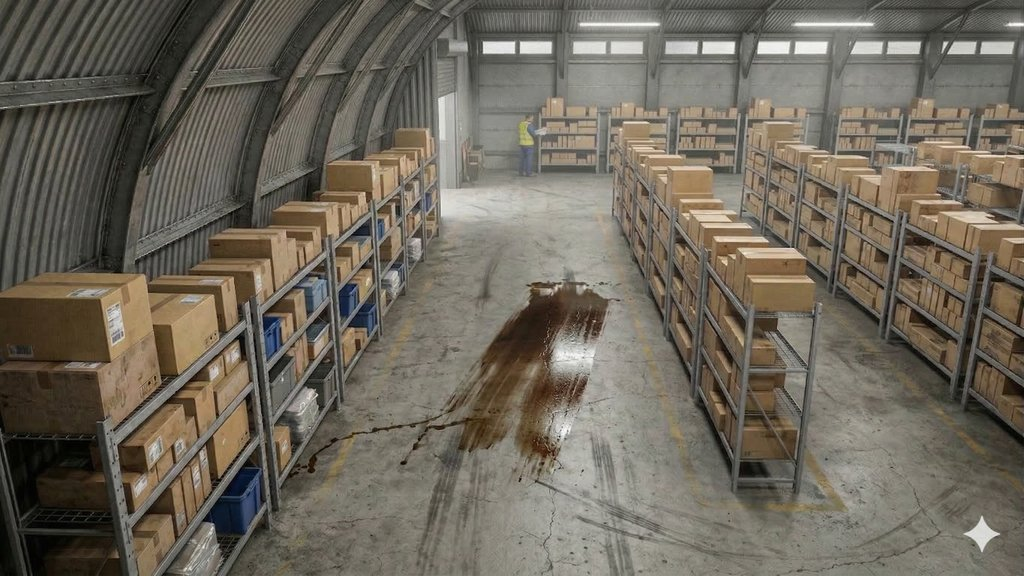empty_shelf: (770, 321, 811, 373), (775, 374, 806, 418)
person: (510, 111, 545, 182)
safety_vest: (519, 122, 532, 152)
spill: (453, 263, 608, 475)
